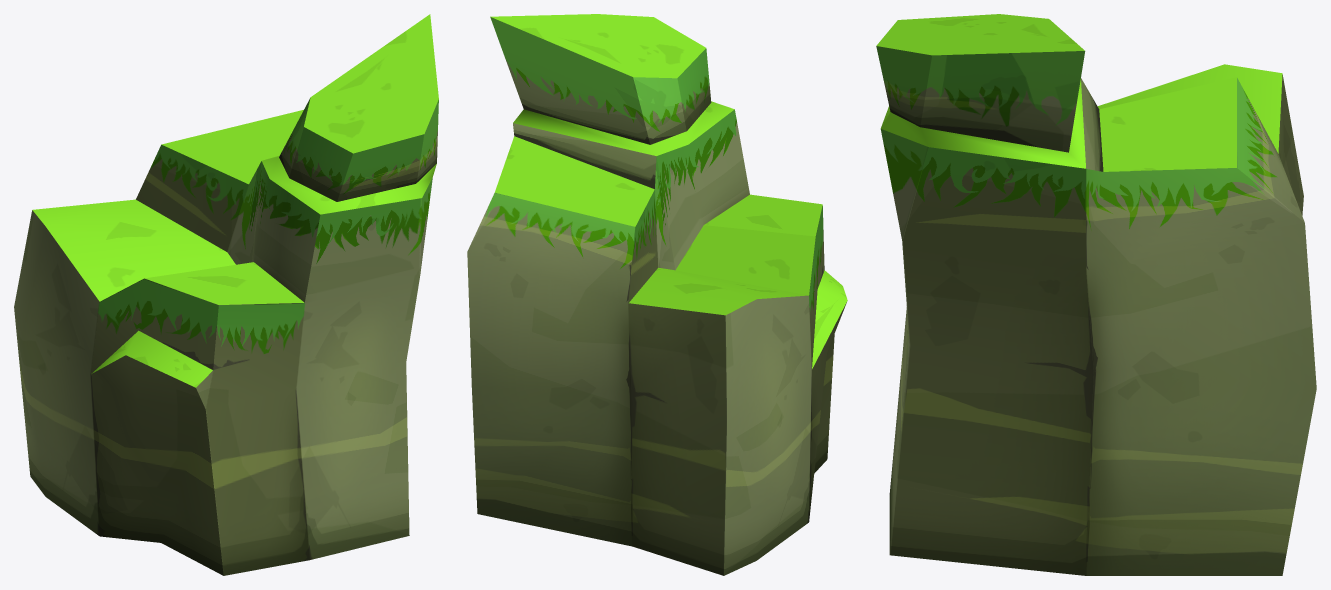
Rendered from F_W_O_rock_016.fbx.
The picture shows the model from 3 angles, left to right: view 1: azimuth 30°, elevation 25°; view 2: azimuth 150°, elevation 25°; view 3: azimuth 270°, elevation 25°; orthographic projection. The views are drawn at different scales.
Parts seen in each view (by area): view 1: F_W_O_rock_016; view 2: F_W_O_rock_016; view 3: F_W_O_rock_016.
Part boxes in pixels (bbox=[...]): F_W_O_rock_016: bbox=[14, 14, 438, 575]; F_W_O_rock_016: bbox=[467, 14, 847, 575]; F_W_O_rock_016: bbox=[876, 14, 1316, 575].
Bounding box in the file's own units: 12 × 14.58 × 10.3.
